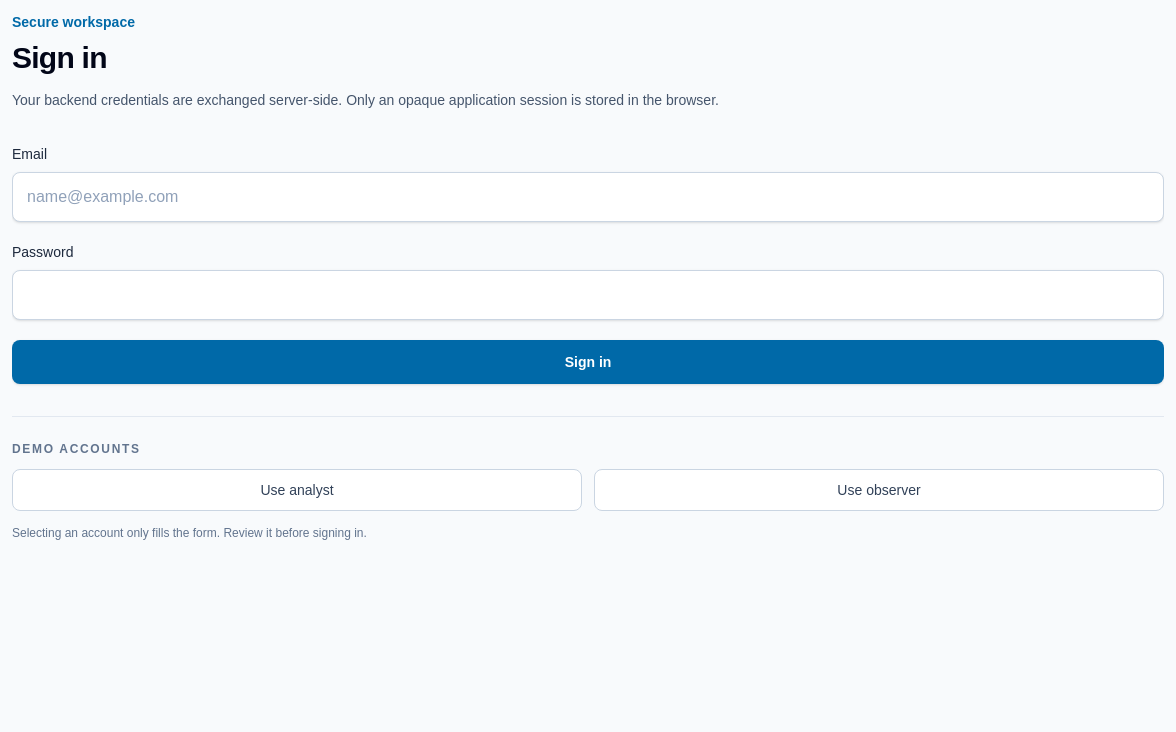
SignInForm › fills demo credentials without submitting
This screenshot has width=1176, height=732.
Click the button "Use analyst" at (297, 490), box [12,469,582,511]
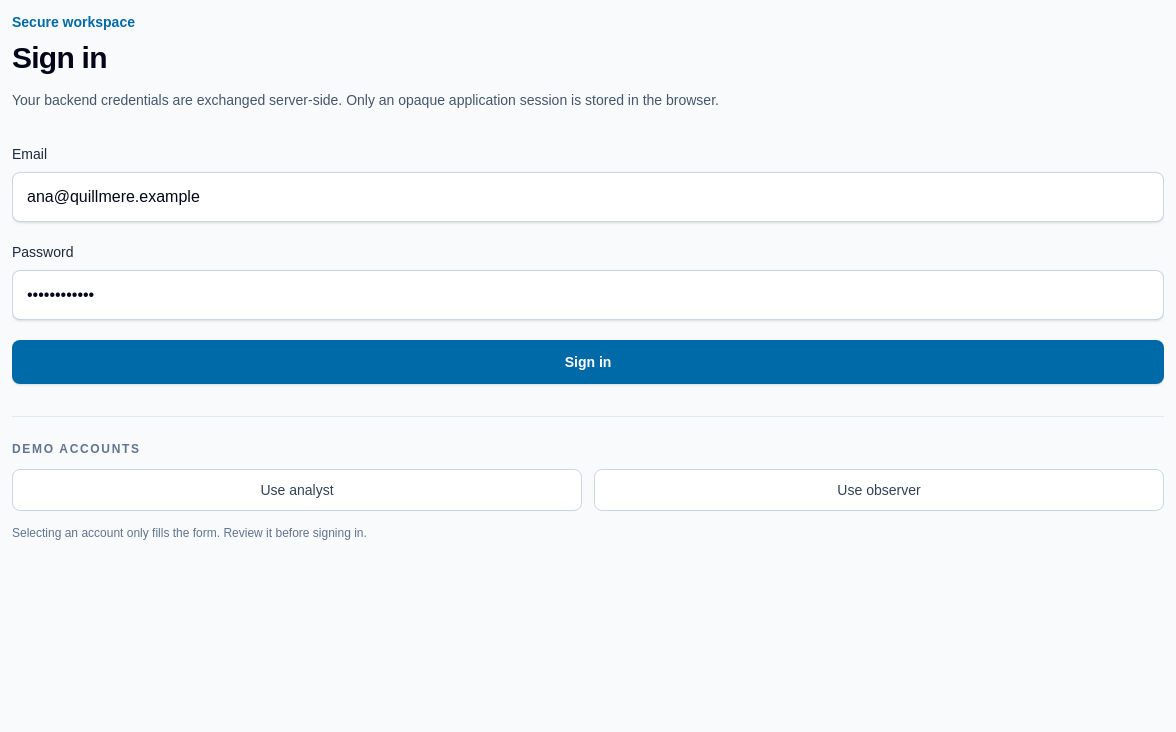
Check: the field labelled "Email" holds "ana@quillmere.example", box [12,172,1164,222]
Check: the password field labelled "Password" holds "demo-analyst", box [12,270,1164,320]
Click the button "Use observer" at (879, 490), box [594,469,1164,511]
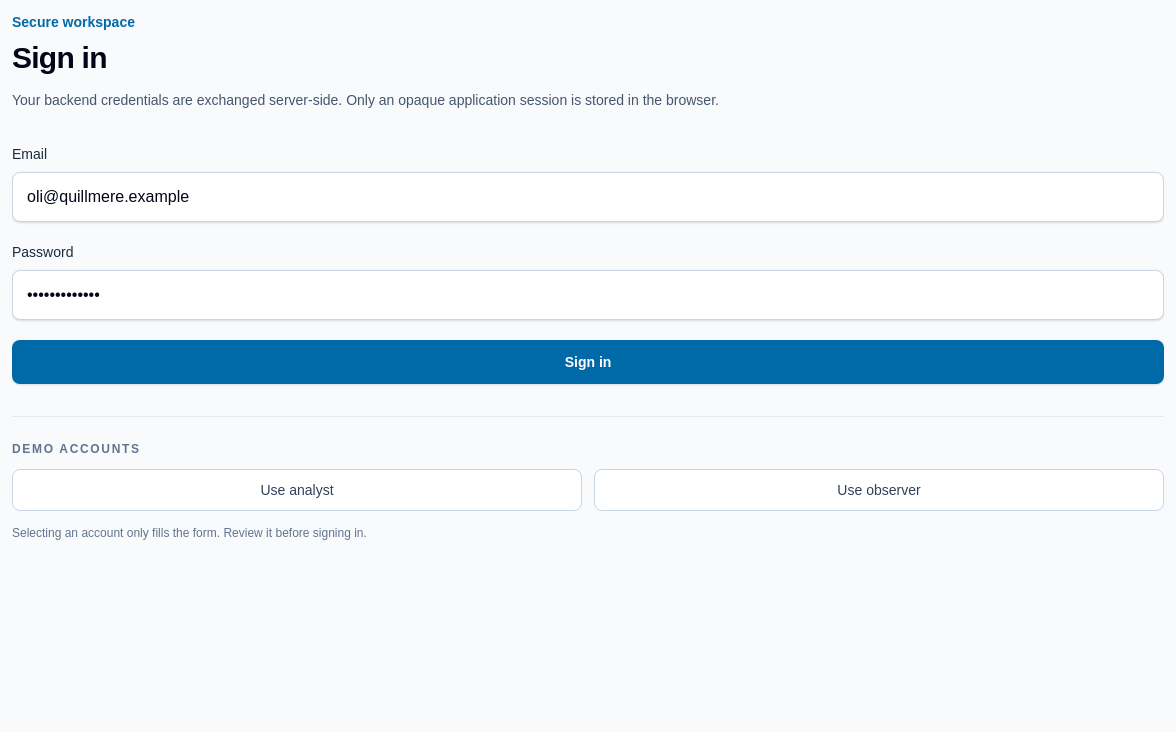
Check: the password field labelled "Password" holds "demo-observer", box [12,270,1164,320]
Check: the field labelled "Email" holds "oli@quillmere.example", box [12,172,1164,222]
